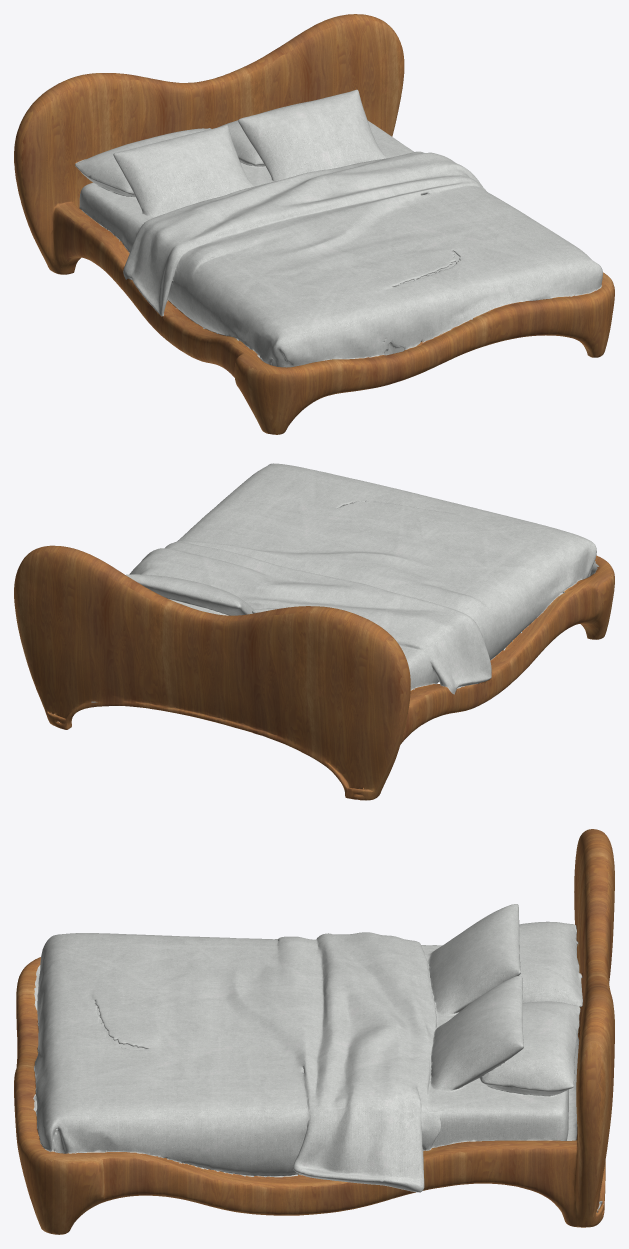
File: WoodBaseBed.glb
3 renders of one model, top to bottom at view 1: azimuth 30°, elevation 25°; view 2: azimuth 150°, elevation 25°; view 3: azimuth 270°, elevation 25°, orthographic. The views are drawn at different scales.
Parts seen in each view (by area): view 1: world; view 2: world; view 3: world.
Boxes of the visible parts, x1=… form: world: x1=14, y1=14, x2=614, y2=434; world: x1=14, y1=463, x2=614, y2=800; world: x1=14, y1=829, x2=614, y2=1234.
Bounding box in the file's own units: 0.9008 × 0.4027 × 1.
2 materials, 2 textured.
